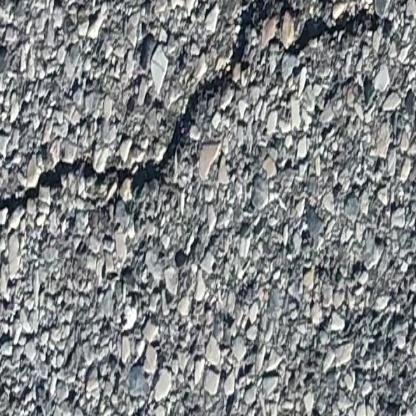Cracks: (0, 0, 395, 223)
